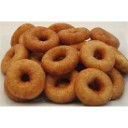vada: (7, 61, 46, 97), (76, 67, 113, 104), (82, 40, 116, 72), (43, 44, 78, 71), (26, 25, 60, 50), (91, 24, 124, 47), (1, 45, 22, 70), (59, 28, 90, 42), (113, 47, 128, 72)
